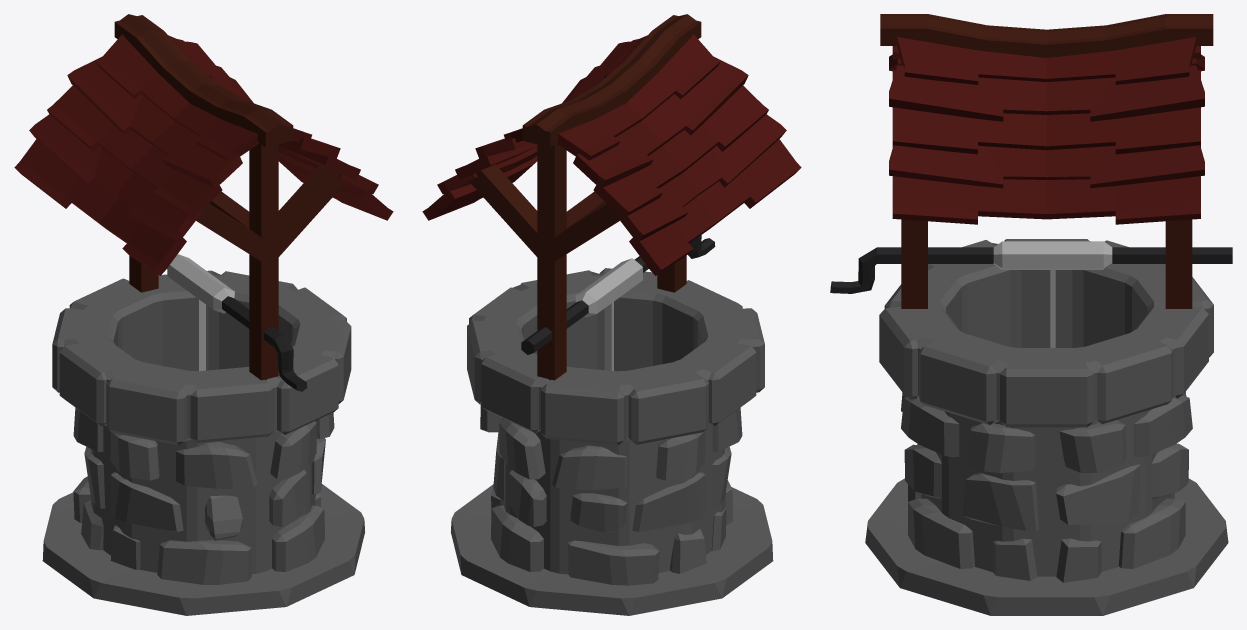
The model's file is WaterWell.FBX.
3 views of the same model, side by side, from view 1: azimuth 30°, elevation 25°; view 2: azimuth 150°, elevation 25°; view 3: azimuth 270°, elevation 25° (orthographic). The views are drawn at different scales.
Visible parts, largest first — view 1: WaterWell; view 2: WaterWell; view 3: WaterWell.
Boxes of the visible parts, x1=… form: WaterWell: x1=14, y1=14, x2=393, y2=615; WaterWell: x1=422, y1=14, x2=801, y2=615; WaterWell: x1=830, y1=14, x2=1232, y2=615.
Size of the model in its own units: 128 by 215 by 149.
